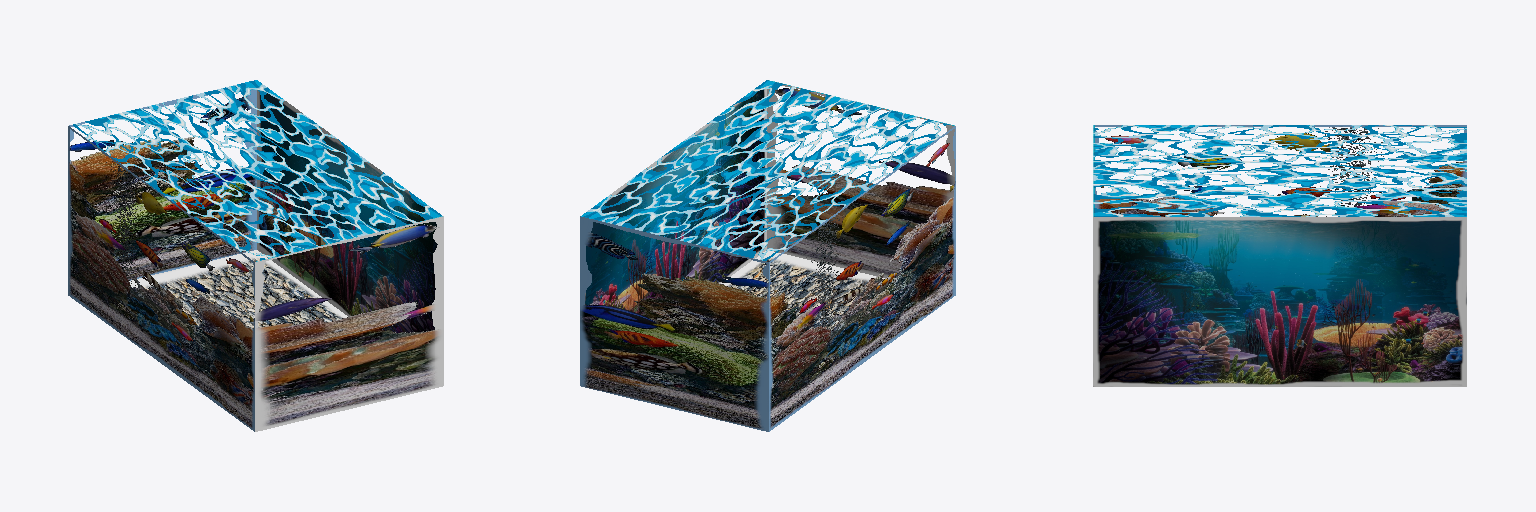
The picture shows the model from 3 angles: view 1: azimuth 30°, elevation 25°; view 2: azimuth 150°, elevation 25°; view 3: azimuth 270°, elevation 25°; orthographic projection.
Parts seen in each view (by area): view 1: Box001; view 2: Box001; view 3: Box001.
Part boxes in pixels (x1,y1,x2,y2): Box001: (68,80,443,431); Box001: (580,80,955,431); Box001: (1093,125,1466,386).
Bounding box in the file's own units: 28.83 × 24.87 × 49.47.
6 materials, 6 textured.